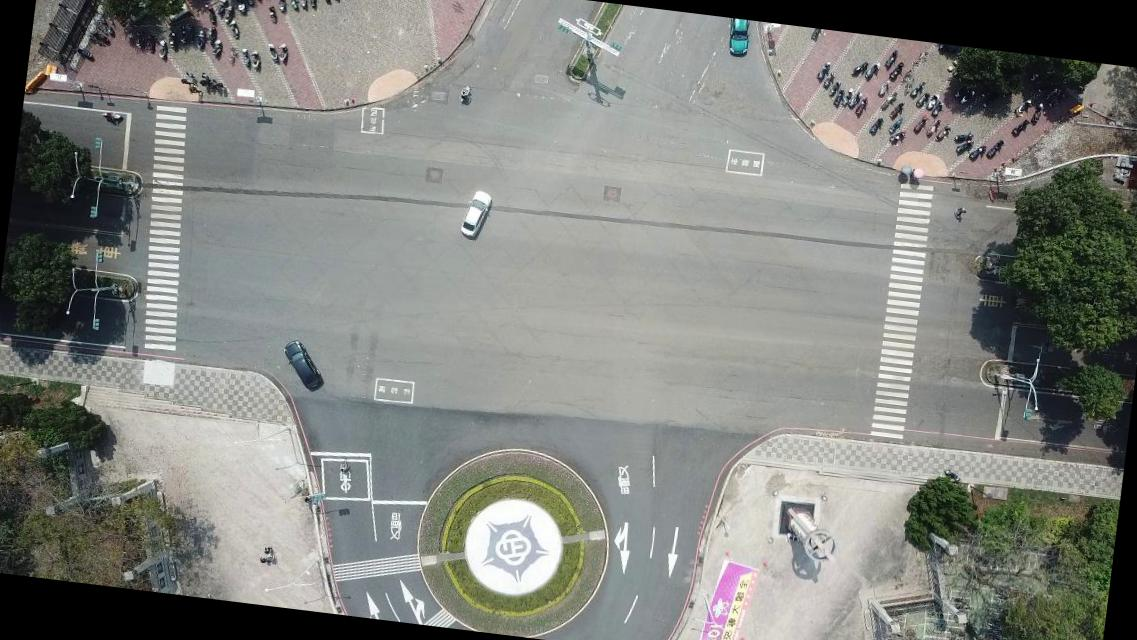vehicle: (276, 338, 328, 392), (456, 188, 492, 240), (723, 17, 755, 59)
